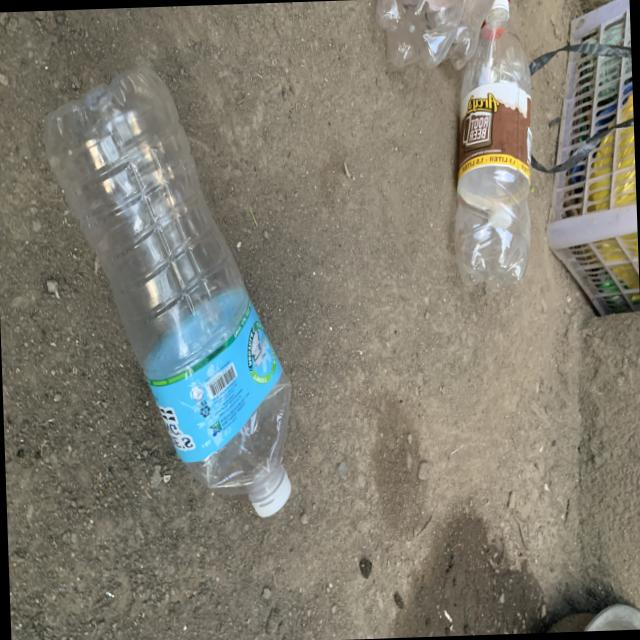Bottle: (44, 64, 291, 516)
